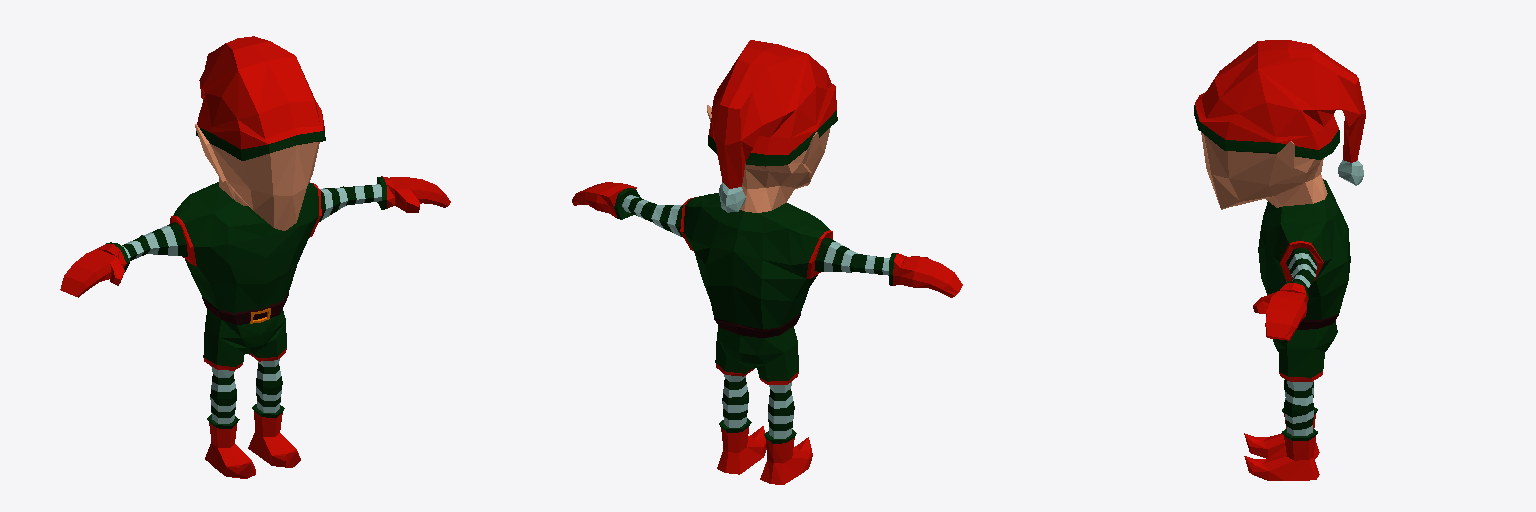
The model's file is char_ELF_1.obj.
The picture shows the model from 3 angles: view 1: azimuth 30°, elevation 25°; view 2: azimuth 150°, elevation 25°; view 3: azimuth 270°, elevation 25°; orthographic projection.
Visible parts, largest first — view 1: Cube; view 2: Cube; view 3: Cube.
Boxes of the visible parts, x1=… form: Cube: x1=60, y1=36, x2=450, y2=478; Cube: x1=572, y1=40, x2=962, y2=484; Cube: x1=1194, y1=40, x2=1365, y2=480.
Size of the model in its own units: 2.88 by 2.96 by 1.11.